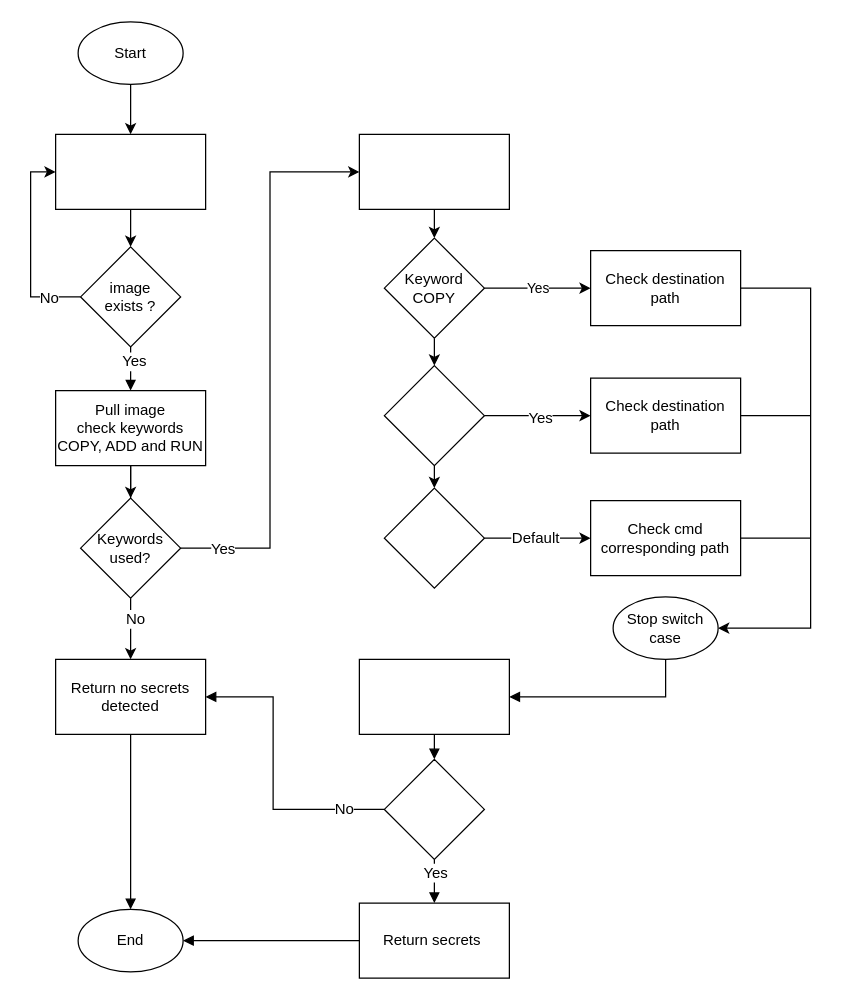
Image size: 843x1000. Some labels were removed from this diagram. Each missing label, with the box of its shape:
Choose image: (54, 133, 206, 209)
Keyword ADD: (383, 364, 484, 466)
Keyword RUN: (383, 487, 484, 588)
Scan paths for RSA PK and AWS token: (358, 658, 509, 734)
Secrets found: (383, 758, 484, 859)
Switch keyword: (358, 133, 509, 209)
